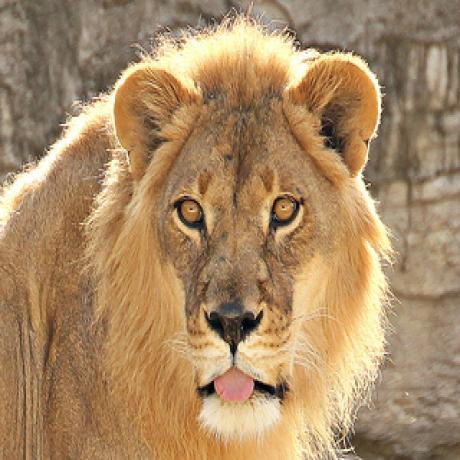Lion: (0, 16, 396, 460)
